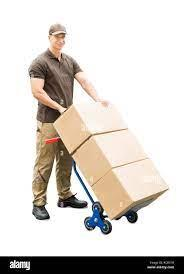Boxes: (91, 157, 169, 221), (73, 129, 151, 188), (52, 102, 131, 153)
